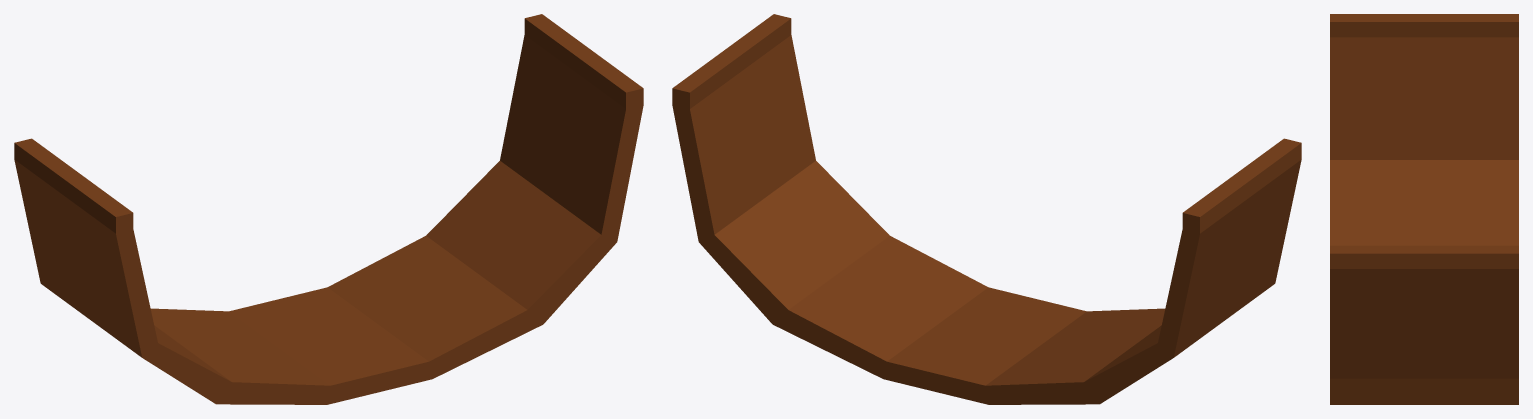
Rendered from BOTTOM_CENTRE.obj.
3 renders of one model, left to right at view 1: azimuth 30°, elevation 25°; view 2: azimuth 150°, elevation 25°; view 3: azimuth 270°, elevation 25°, orthographic. The views are drawn at different scales.
Size of the model in its own units: 6 by 2.6 by 2.
